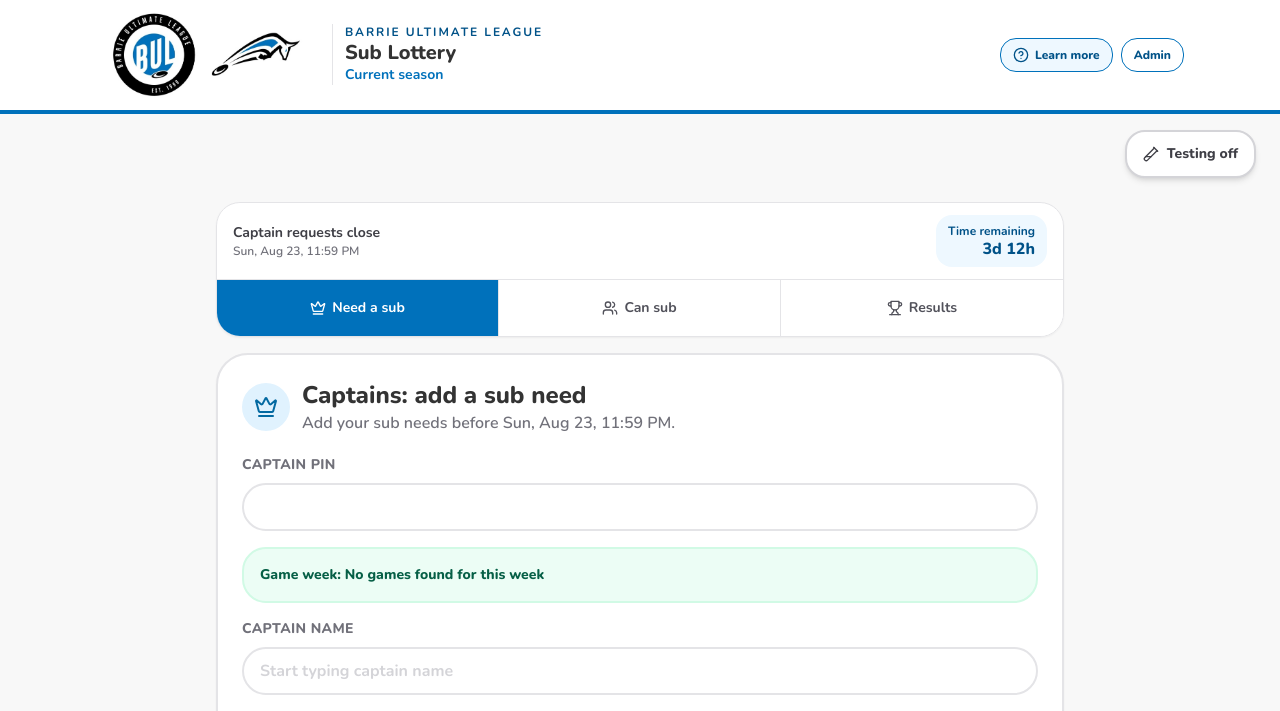
Scenario: SubLotteryApp › explains the complete lottery process from the header
This screenshot has width=1280, height=711.
Click the button with aria-label "Learn how the sub lottery works".
click(1056, 55)  # box x1=1000 y1=38 x2=1113 y2=72
(page scrolled)
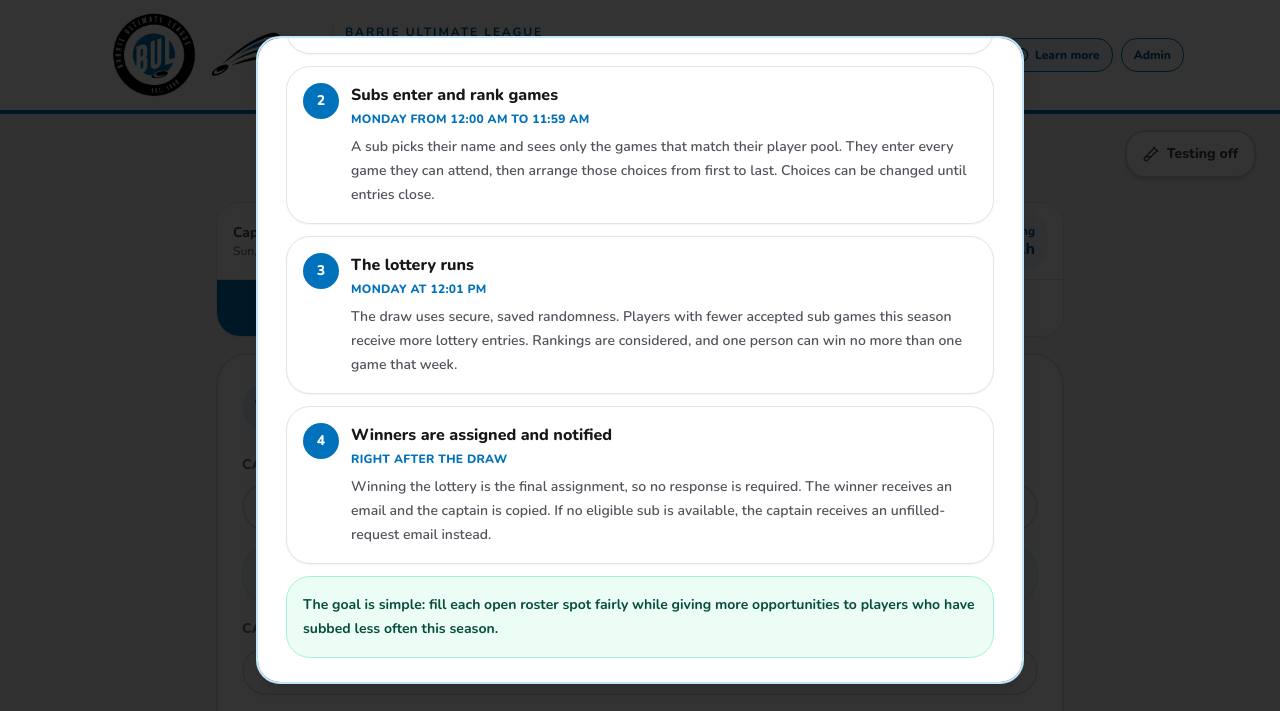
Result: the dialog is shown at x1=256 y1=36 x2=1024 y2=684
Result: the heading "Subs enter and rank games" is shown at x1=351 y1=84 x2=558 y2=106
Result: the heading "The lottery runs" is shown at x1=351 y1=254 x2=474 y2=276
